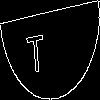T: (25, 25, 46, 74)
